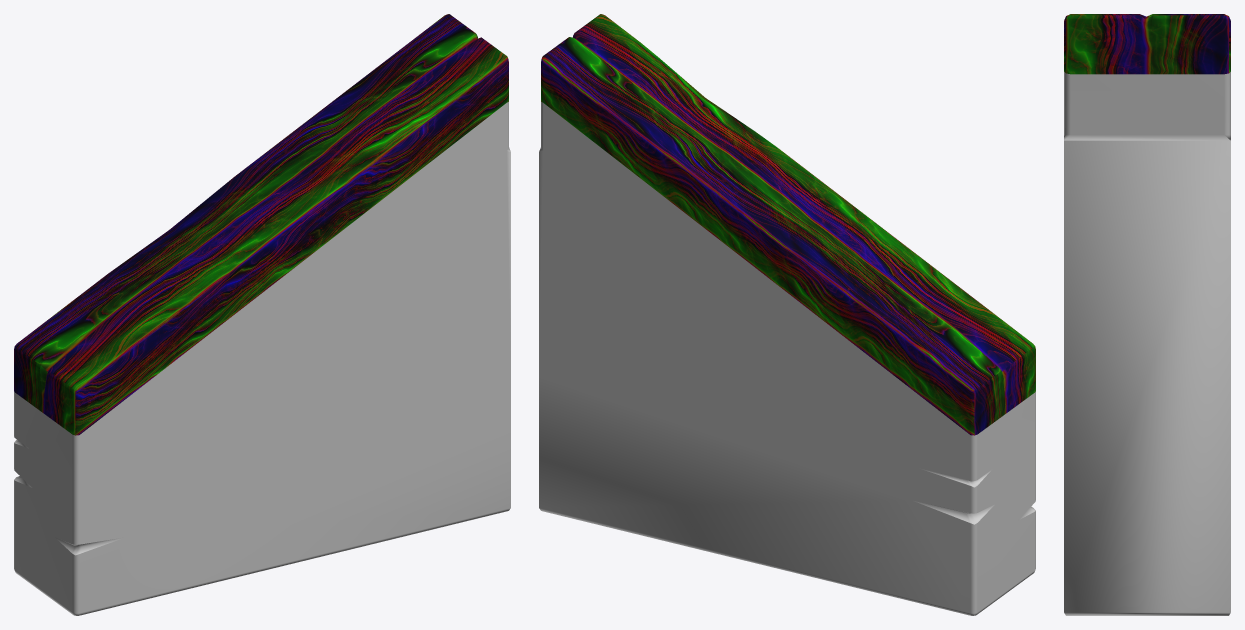
The model's file is SM_StairsSide.fbx.
3 views of the same model, side by side, from view 1: azimuth 30°, elevation 25°; view 2: azimuth 150°, elevation 25°; view 3: azimuth 270°, elevation 25° (orthographic). The views are drawn at different scales.
Parts seen in each view (by area): view 1: SM_StairsSide_LOD0; view 2: SM_StairsSide_LOD0; view 3: SM_StairsSide_LOD0.
Boxes of the visible parts, x1,y1,x2,y2 form: SM_StairsSide_LOD0: (14,14,510,615); SM_StairsSide_LOD0: (539,14,1035,615); SM_StairsSide_LOD0: (1064,14,1230,615).
Size of the model in its own units: 400 by 100 by 398.
2 materials, 1 textured.
